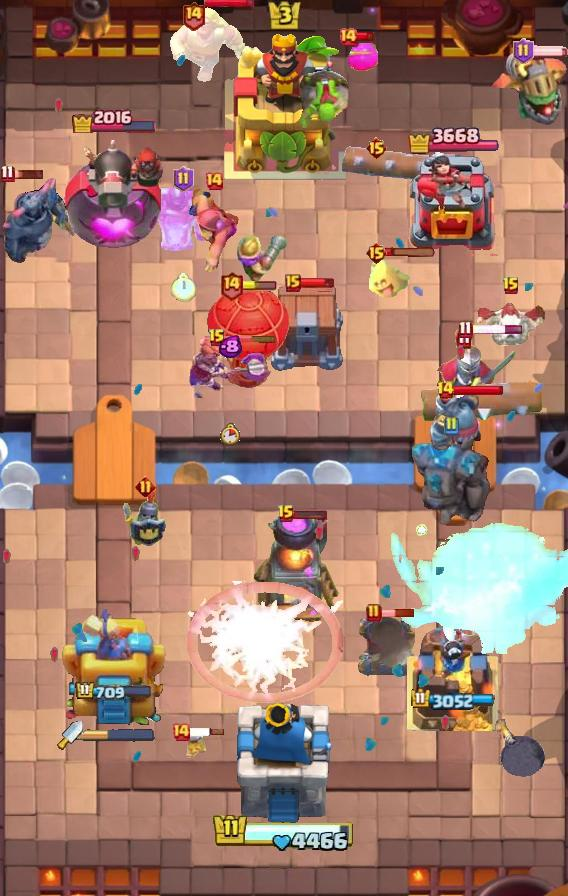baby-dragon: (494, 717, 546, 779)
bar: (62, 601, 166, 731)
bar-level: (296, 69, 350, 131)
barbarian-evolution: (185, 581, 343, 703)
bat-evolution: (368, 257, 412, 301)
bomb: (268, 286, 346, 372)
bomb-tower: (237, 232, 287, 286)
cannon-cart: (206, 287, 290, 389)
cannoneer-tower: (409, 429, 493, 527)
clock: (212, 812, 356, 854)
electro-spirit: (218, 335, 242, 359)
elixir: (172, 274, 197, 303), (220, 422, 240, 446)
elixir-golem-small: (429, 390, 485, 450)
emote: (385, 246, 437, 258), (452, 384, 504, 396), (472, 325, 525, 336), (223, 333, 277, 343), (8, 168, 45, 180), (532, 45, 568, 57), (299, 277, 335, 289), (292, 508, 328, 520), (205, 0, 256, 8), (241, 281, 277, 291), (189, 727, 225, 737), (380, 608, 415, 618), (356, 31, 375, 42)
fireball: (184, 189, 244, 277)
freeze: (151, 186, 215, 254)
goblin-hut: (167, 5, 245, 83)
golemite: (0, 176, 80, 270)
heal-spirit: (182, 728, 208, 760)
hunter: (252, 515, 340, 625)
king-tower: (222, 31, 346, 181), (235, 703, 333, 826)
king-tower-bar: (83, 728, 155, 742)
mega-knight: (369, 506, 568, 680)
miner: (346, 41, 378, 71)
mini-pekka: (474, 301, 548, 349)
minion: (418, 377, 544, 427), (342, 146, 442, 182)
musketeer: (355, 613, 419, 679)
night-witch: (486, 48, 568, 126)
princess: (123, 487, 167, 547)
queen-tower: (407, 627, 499, 731), (408, 152, 498, 256)
selected: (407, 123, 499, 159), (70, 107, 157, 134), (411, 688, 495, 710), (75, 681, 153, 702)
tesla-evolution: (188, 334, 272, 401)
text: (181, 0, 206, 31), (220, 270, 245, 301), (365, 136, 388, 160), (365, 241, 388, 265), (513, 38, 534, 64), (174, 166, 195, 192), (135, 476, 156, 497), (338, 27, 358, 47), (204, 171, 224, 191), (171, 722, 191, 742), (436, 380, 455, 400), (502, 276, 520, 296), (208, 328, 226, 348), (277, 504, 295, 524), (443, 416, 459, 436), (366, 603, 382, 623), (285, 274, 301, 292), (1, 164, 16, 183), (459, 321, 474, 340)
tower-bar: (60, 132, 167, 256)
wall-breaker-evolution: (434, 329, 518, 419)
